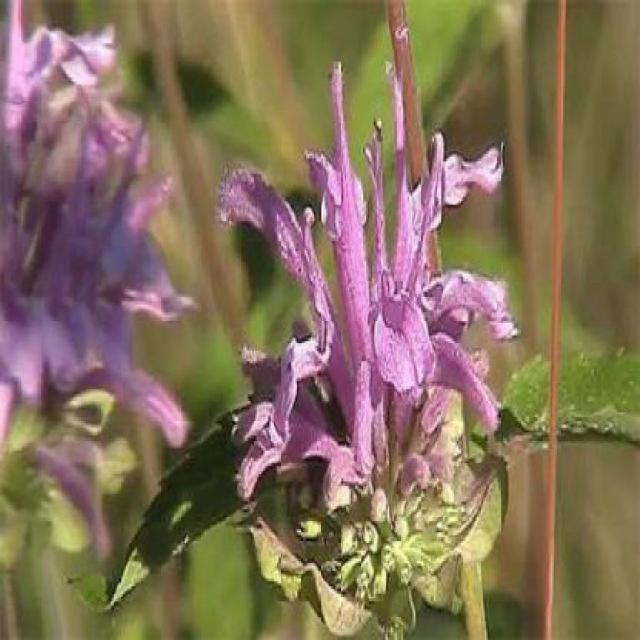Flower: (216, 26, 519, 503)
